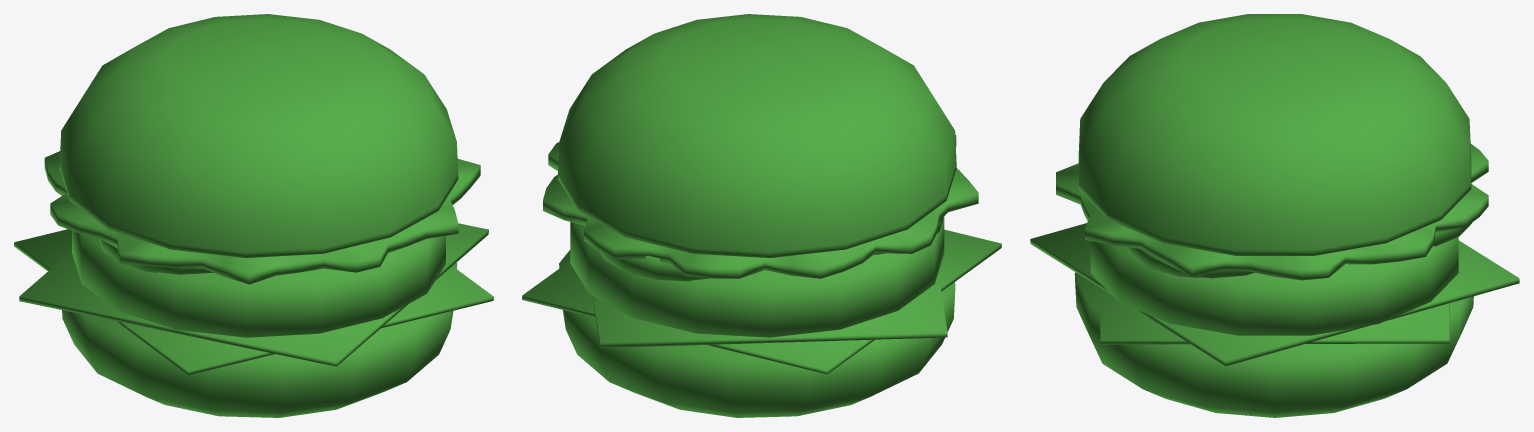
The model's file is hamburguesa.FBX.
The picture shows the model from 3 angles, left to right: view 1: azimuth 30°, elevation 25°; view 2: azimuth 150°, elevation 25°; view 3: azimuth 270°, elevation 25°; orthographic projection.
Visible parts, largest first — view 1: Tomate; view 2: Tomate; view 3: Tomate.
Boxes of the visible parts, left/top/right/bottom form: Tomate: left=14, top=14, right=493, bottom=417; Tomate: left=522, top=14, right=1001, bottom=417; Tomate: left=1030, top=14, right=1519, bottom=417.
Size of the model in its own units: 69.96 by 49.62 by 70.49.
